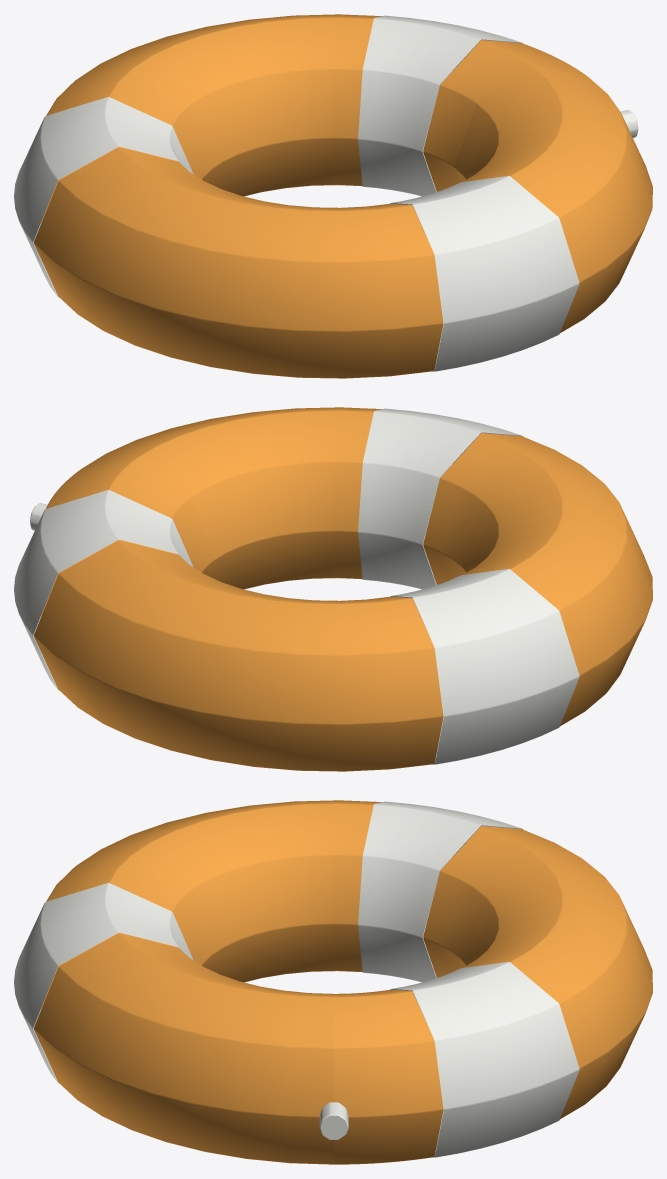
File: LV_inflatable_ring.fbx
3 views of the same model, one above another, from view 1: azimuth 30°, elevation 25°; view 2: azimuth 150°, elevation 25°; view 3: azimuth 270°, elevation 25° (orthographic).
Parts seen in each view (by area): view 1: LV_inflatable_ring; view 2: LV_inflatable_ring; view 3: LV_inflatable_ring.
Boxes of the visible parts, x1,y1,x2,y2 form: LV_inflatable_ring: (14, 14, 652, 378); LV_inflatable_ring: (14, 407, 652, 771); LV_inflatable_ring: (14, 800, 652, 1164).
Size of the model in its own units: 0.9844 by 0.2709 by 0.9487.
